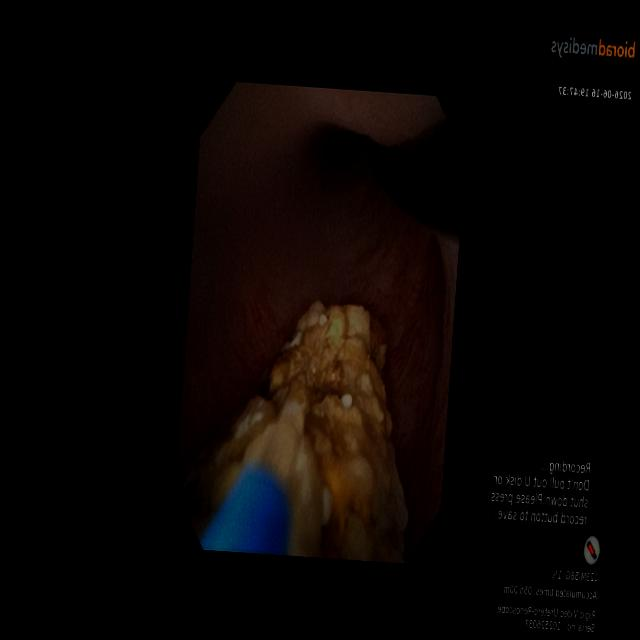laser-fibre: (260, 399, 304, 481)
